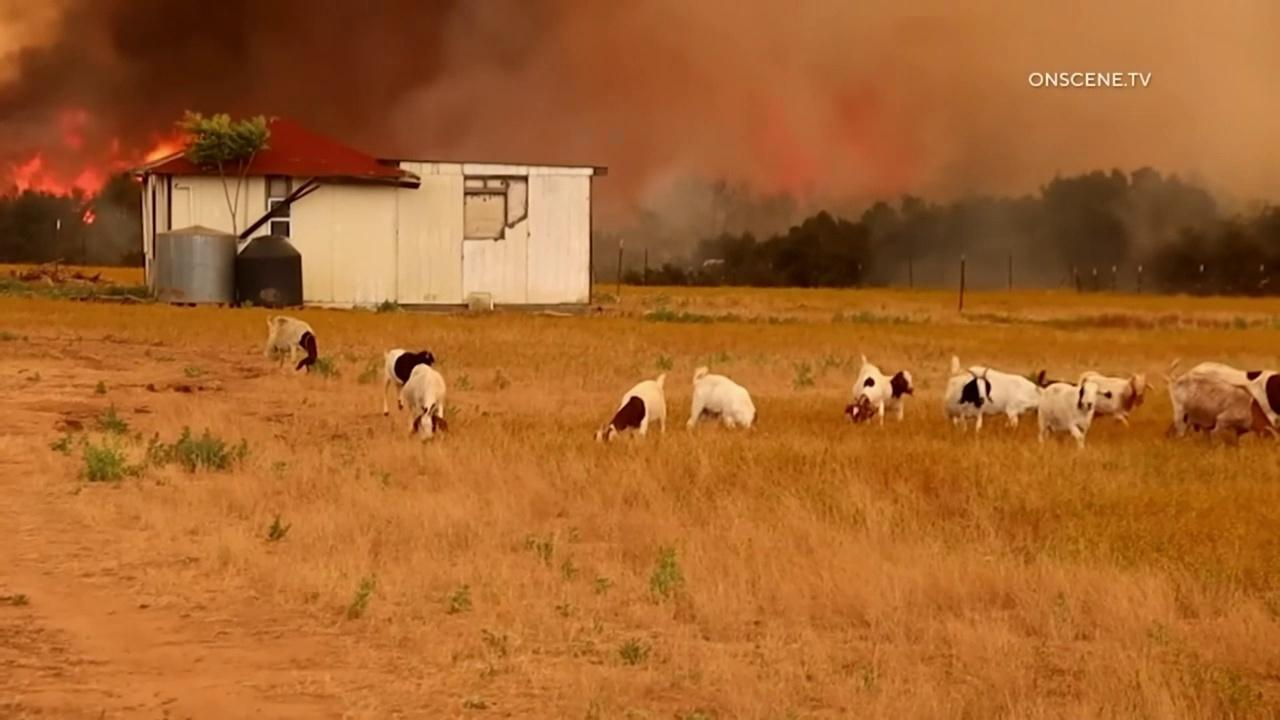fire: (0, 105, 191, 225)
smoke: (0, 0, 1280, 292)
